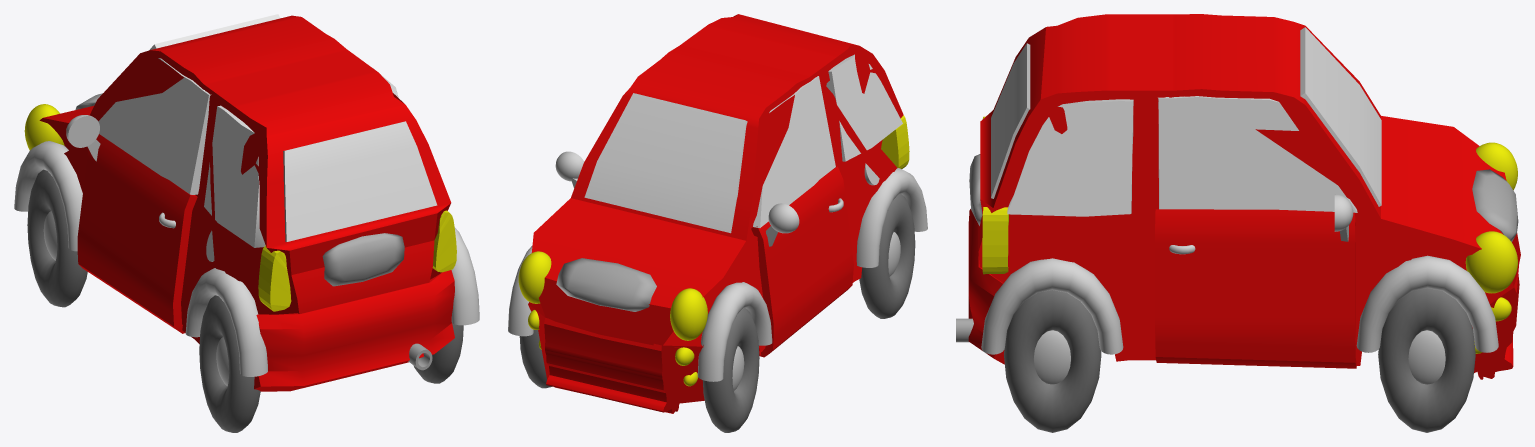
The model's file is Car.fbx.
The picture shows the model from 3 angles, left to right: view 1: azimuth 30°, elevation 25°; view 2: azimuth 150°, elevation 25°; view 3: azimuth 270°, elevation 25°; orthographic projection. The views are drawn at different scales.
Parts seen in each view (by area): view 1: pPlane5, polySurface16, pCube1, pPlane9, polySurface13, polySurface15, pTorus3, pTorus4, pTorus6, pTorus5, pPlane14, pTorus8 (+9 smaller); view 2: pPlane5, pPlane4, polySurface16, pPlane3, polySurface13, polySurface15, pTorus4, pTorus3, pPlane13, pTorus5, pTorus6, pSphere2 (+7 smaller); view 3: pPlane5, polySurface17, polySurface12, polySurface14, pTorus1, pTorus2, pPlane4, pTorus8, pTorus7, pPlane9, pSphere1, pCube1 (+8 smaller).
Part boxes in pixels (x1,y1,x2,y2): pPlane5: (39, 15, 451, 343); polySurface16: (77, 134, 197, 333); pCube1: (254, 270, 454, 391); pPlane9: (283, 121, 437, 241); polySurface13: (98, 58, 211, 194); polySurface15: (204, 105, 265, 247); pTorus3: (199, 295, 260, 432); pTorus4: (27, 169, 87, 307); pTorus6: (185, 268, 267, 376); pTorus5: (14, 141, 82, 251); pPlane14: (322, 233, 404, 286); pTorus8: (451, 227, 479, 325); pPlane5: (528, 14, 903, 355); pPlane4: (584, 93, 747, 233); polySurface16: (751, 166, 853, 357); pPlane3: (528, 305, 704, 413); polySurface13: (753, 76, 835, 227); polySurface15: (826, 54, 902, 161); pTorus4: (702, 308, 759, 432); pTorus3: (859, 194, 915, 318); pPlane13: (556, 258, 656, 311); pTorus5: (697, 282, 772, 381); pTorus6: (856, 168, 927, 267); pSphere2: (670, 288, 707, 340); pPlane5: (978, 14, 1520, 365); polySurface17: (1155, 209, 1356, 368); polySurface12: (1158, 96, 1357, 212); polySurface14: (1007, 99, 1133, 216); pTorus1: (1378, 288, 1475, 432); pTorus2: (1004, 290, 1101, 432); pPlane4: (1300, 27, 1381, 206); pTorus8: (981, 258, 1123, 354); pTorus7: (1356, 255, 1498, 352); pPlane9: (991, 43, 1030, 198); pSphere1: (1465, 231, 1517, 293); pCube1: (968, 209, 1004, 364).
Bounding box in the file's own units: 4.09 × 4.41 × 6.9.
